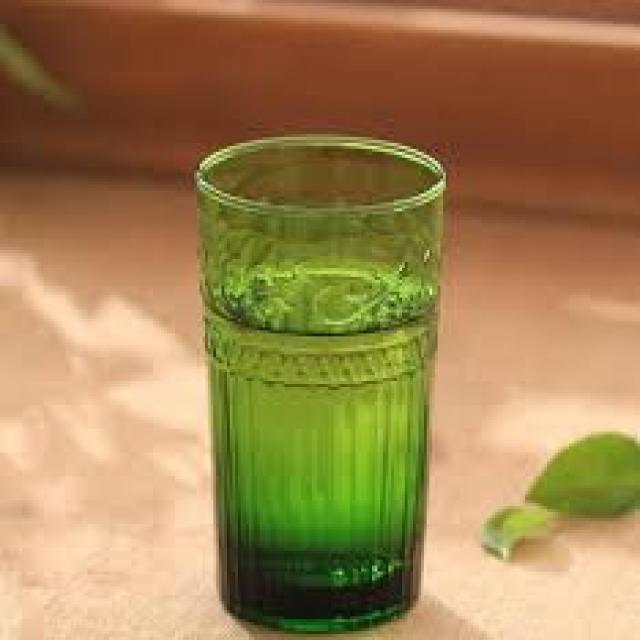organic waste: (525, 423, 637, 512), (479, 500, 547, 563)
